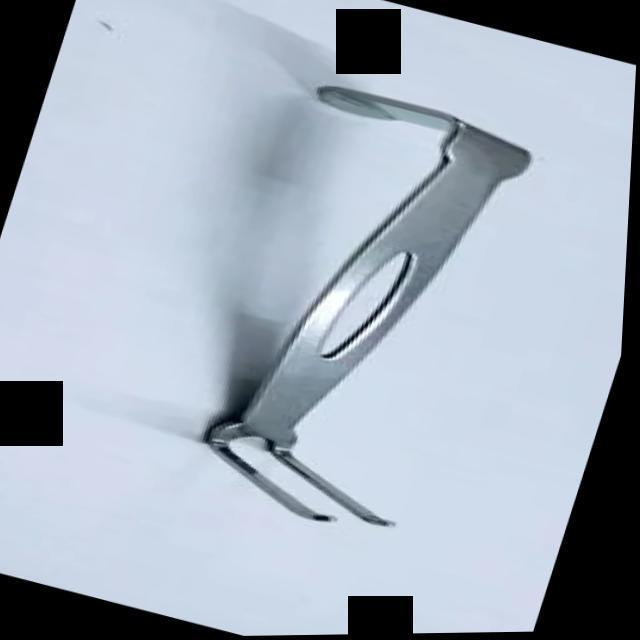Czerny Retractor: (138, 59, 585, 566)
